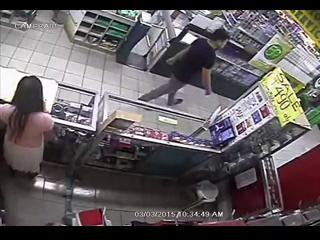Normal: (138, 28, 231, 106), (0, 76, 54, 180)
